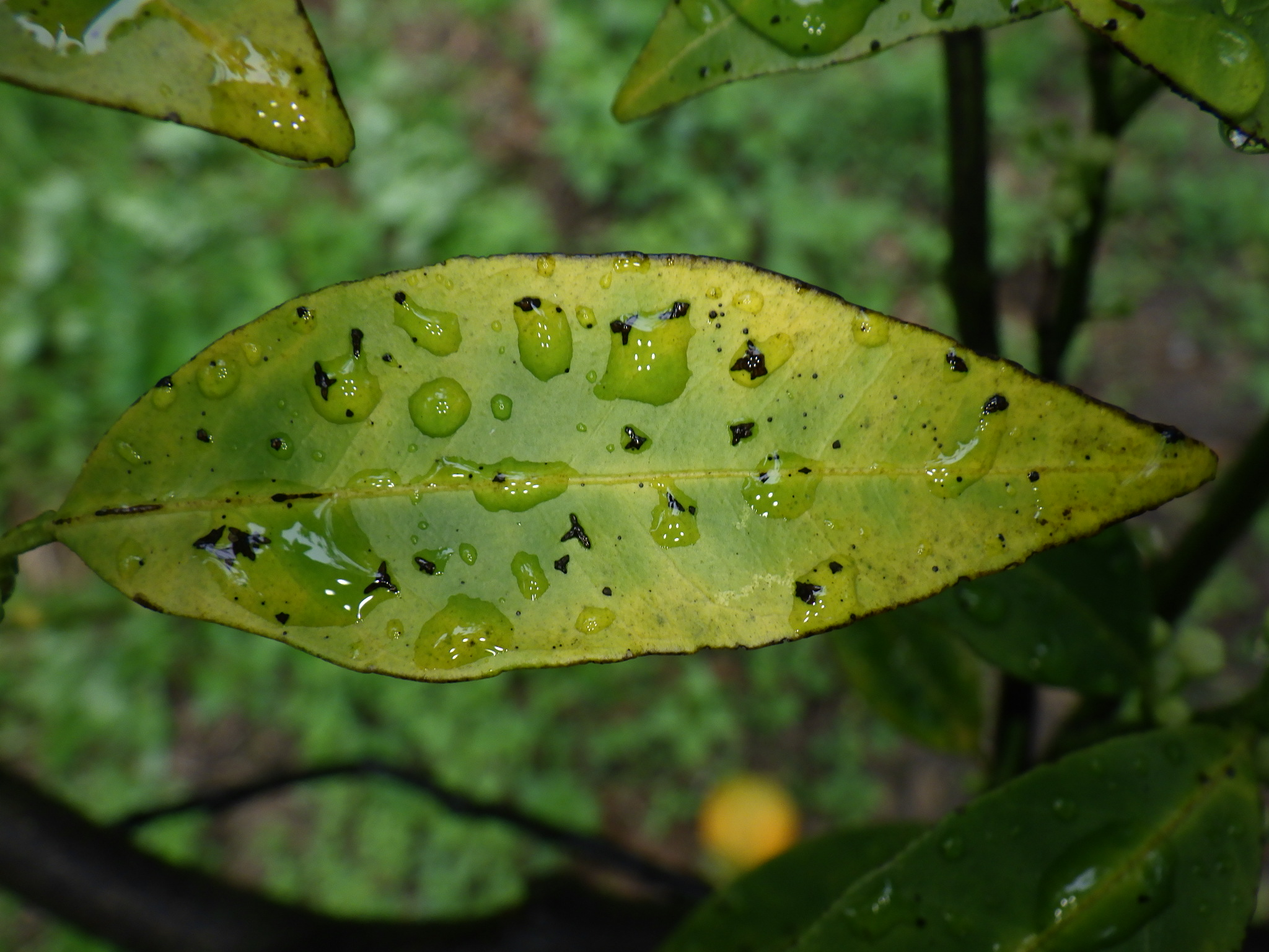Oily_Spot: (40, 252, 1214, 681)
